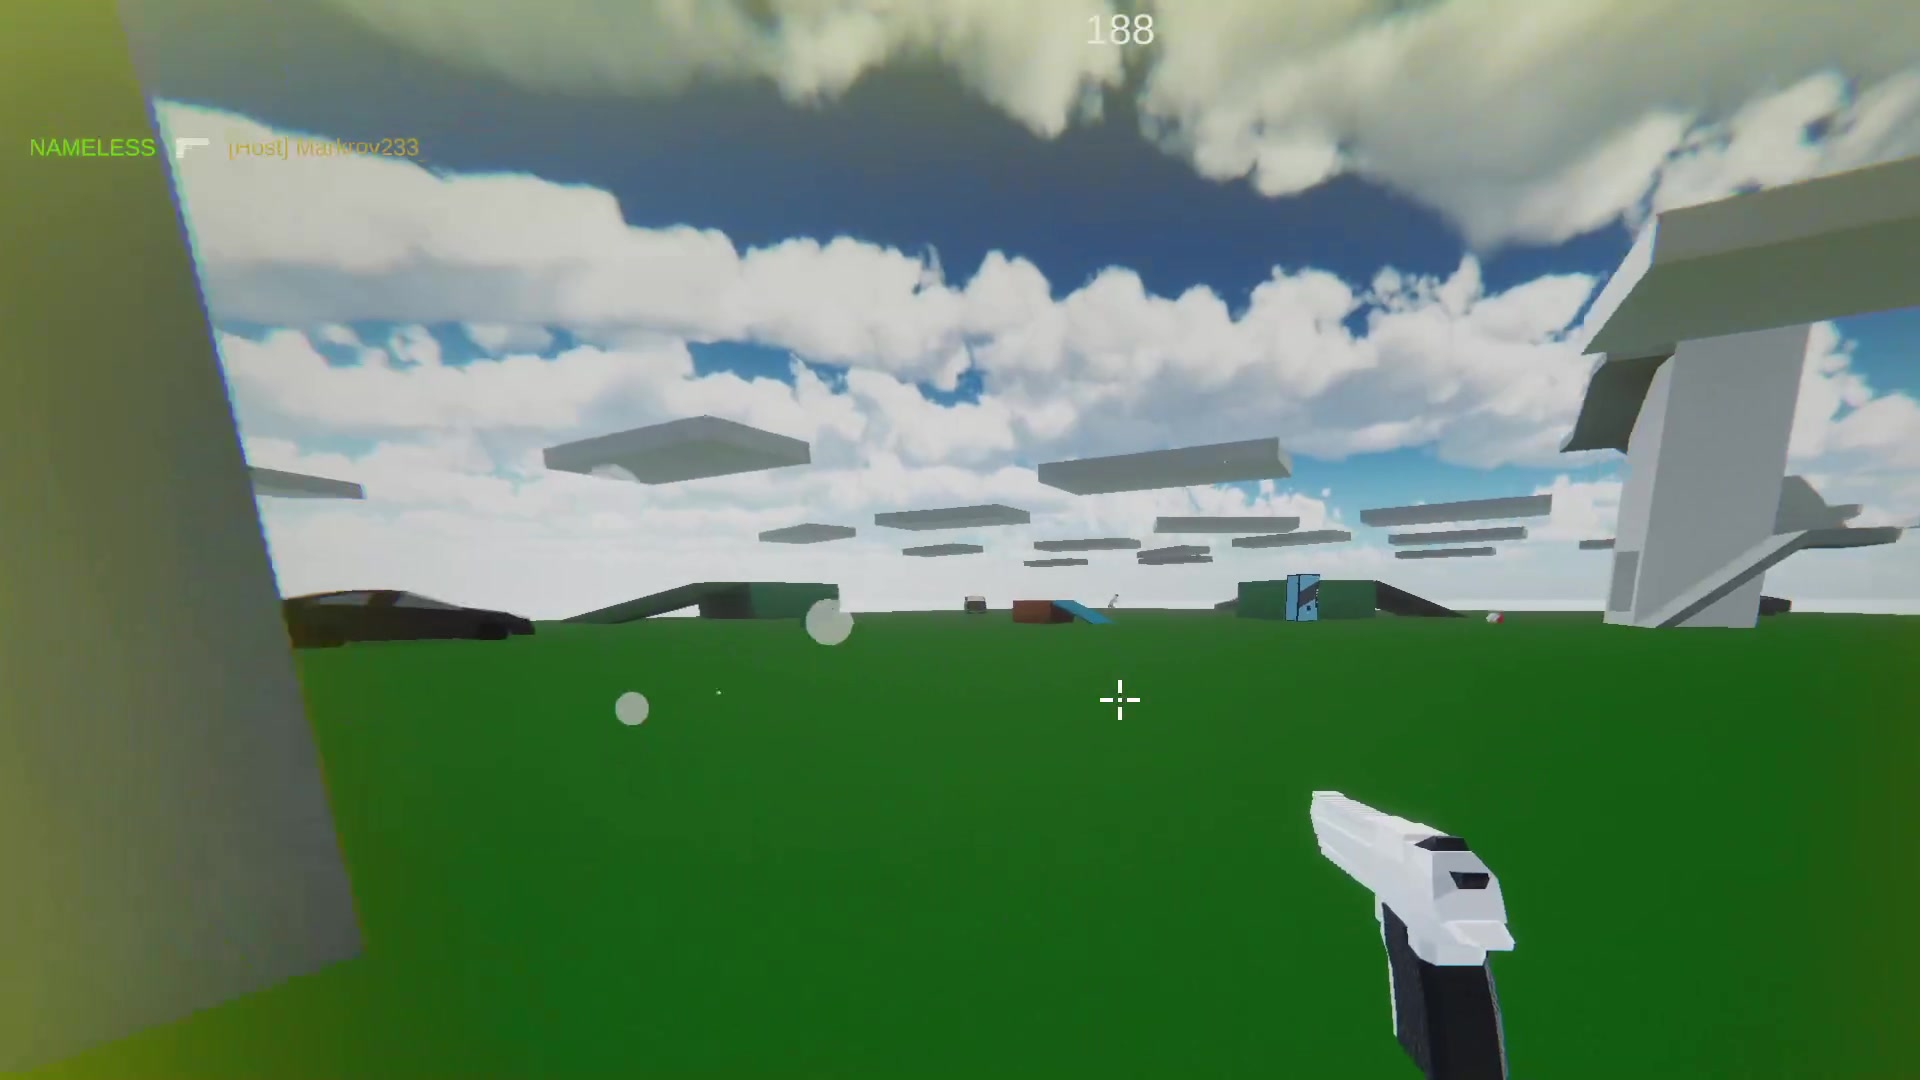human: (1109, 588, 1121, 615)
